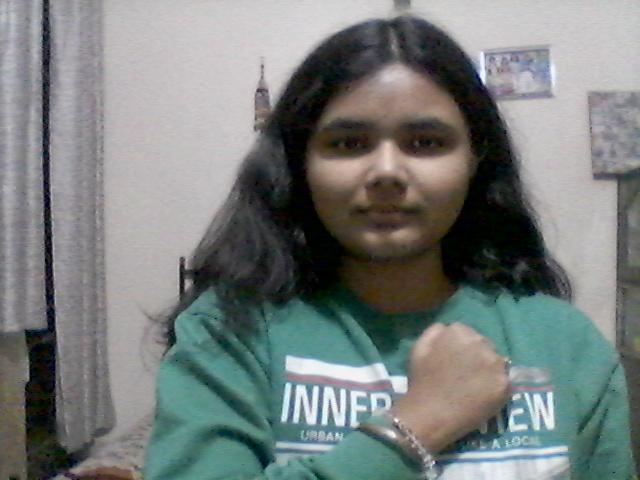sorry: (371, 314, 523, 450)
